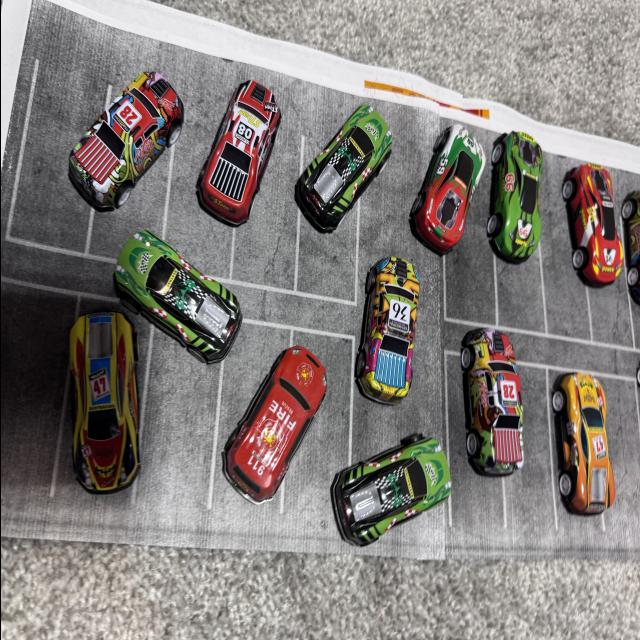Car: (25, 83, 174, 275), (182, 7, 290, 266), (94, 242, 248, 396), (298, 56, 406, 274), (329, 418, 454, 604), (327, 246, 445, 436), (221, 327, 323, 539), (64, 295, 148, 521), (440, 301, 514, 508), (469, 114, 561, 280), (541, 321, 613, 533), (409, 120, 473, 242), (566, 114, 606, 295), (632, 165, 640, 305)
